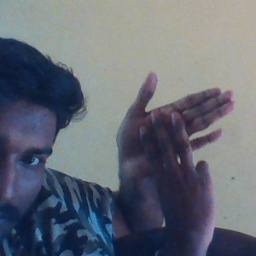M: (113, 71, 236, 219)
